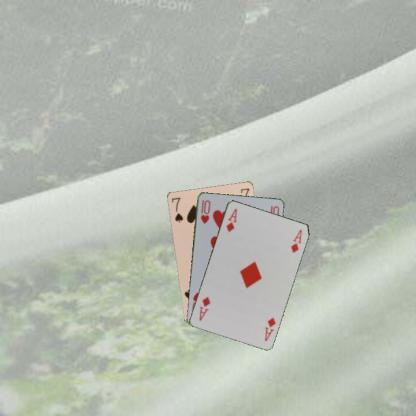10h: (198, 197, 212, 225)
7s: (168, 194, 184, 224)
Ad: (223, 206, 238, 233), (262, 314, 276, 342)
